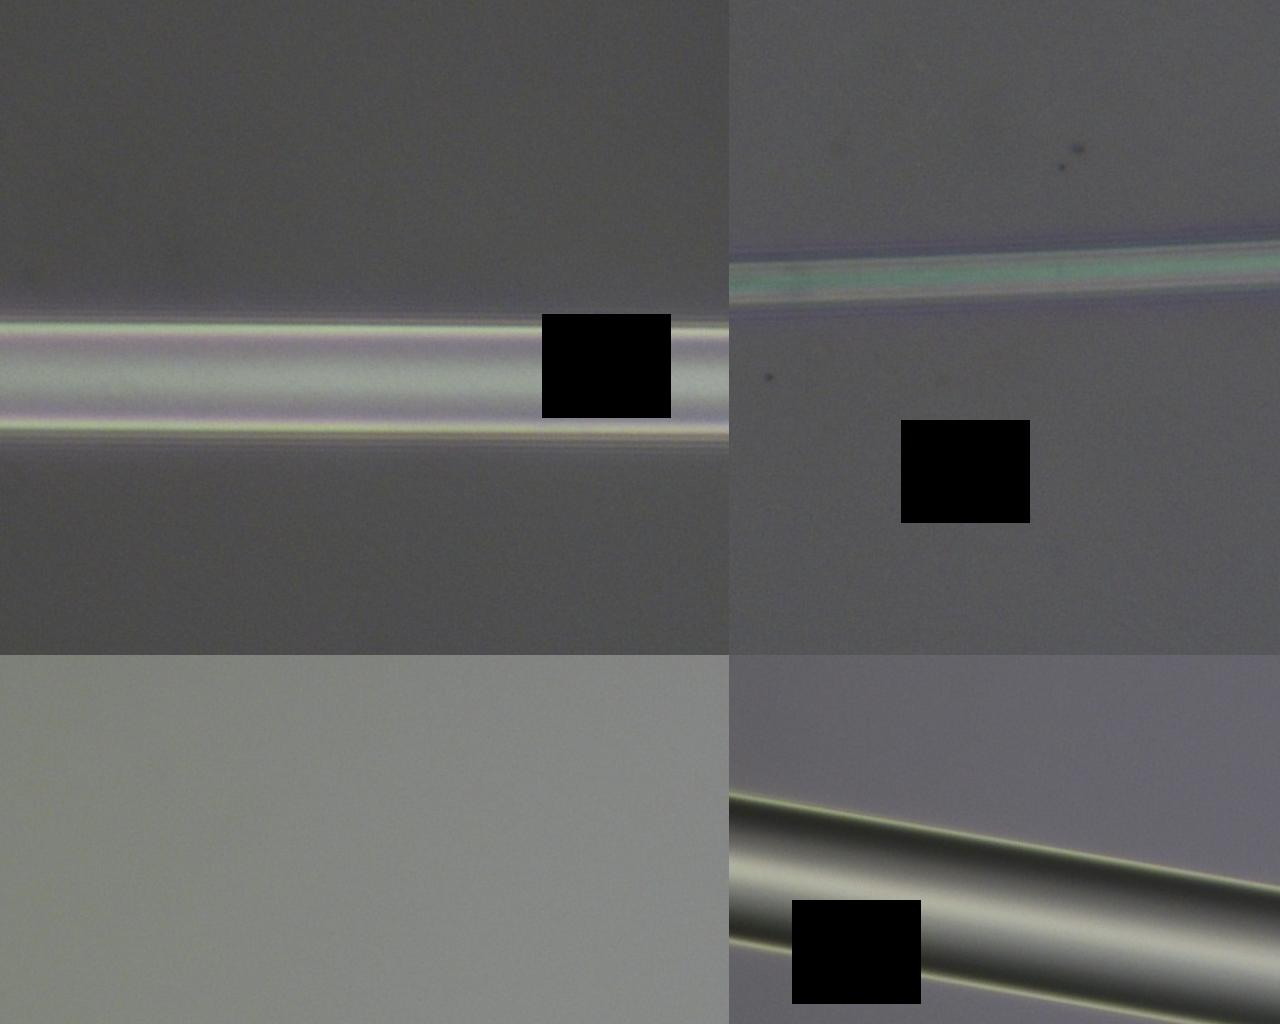fiber: (537, 513, 1280, 1024), (560, 235, 1280, 433), (0, 491, 325, 888)
